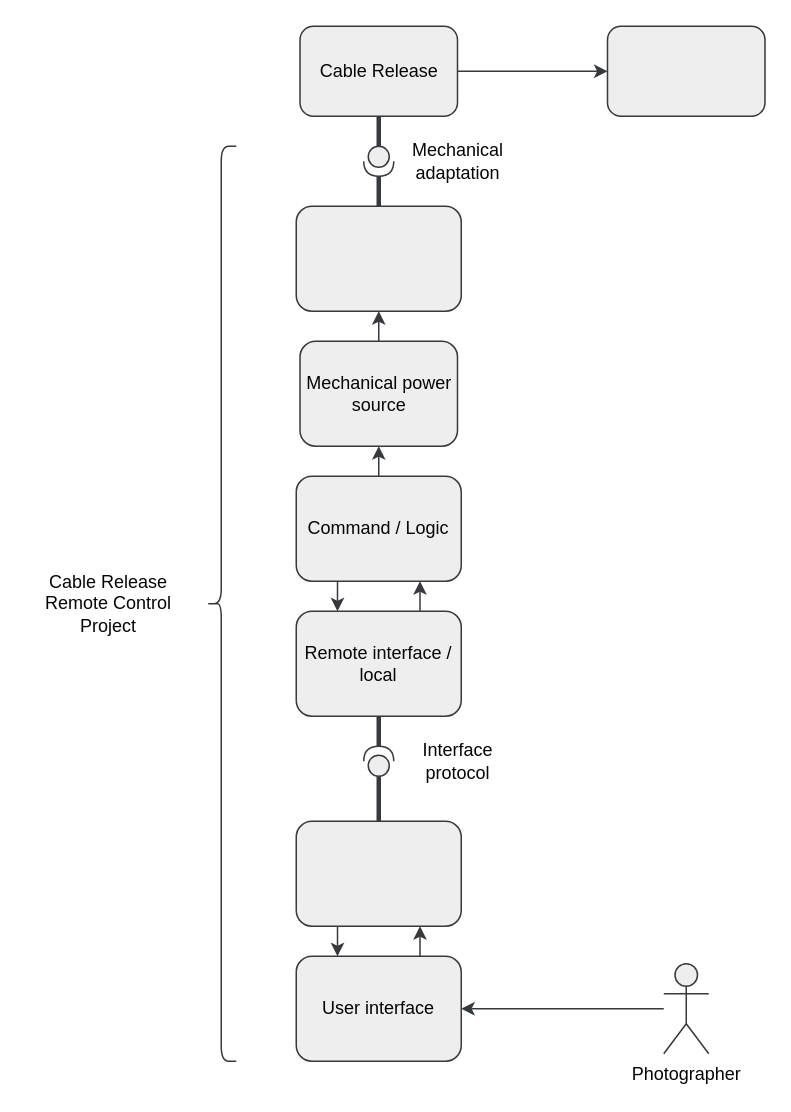
Image size: 791x1112. Some labels were removed from this diagram. The shapes that lost their labels are listed below. From the top down, each one's centre as x and y in pixels, then its label:
At (x=685, y=70): "Camera".
At (x=378, y=258): "Cable Release mechanical interface".
At (x=378, y=873): "Remote interface / distant".
